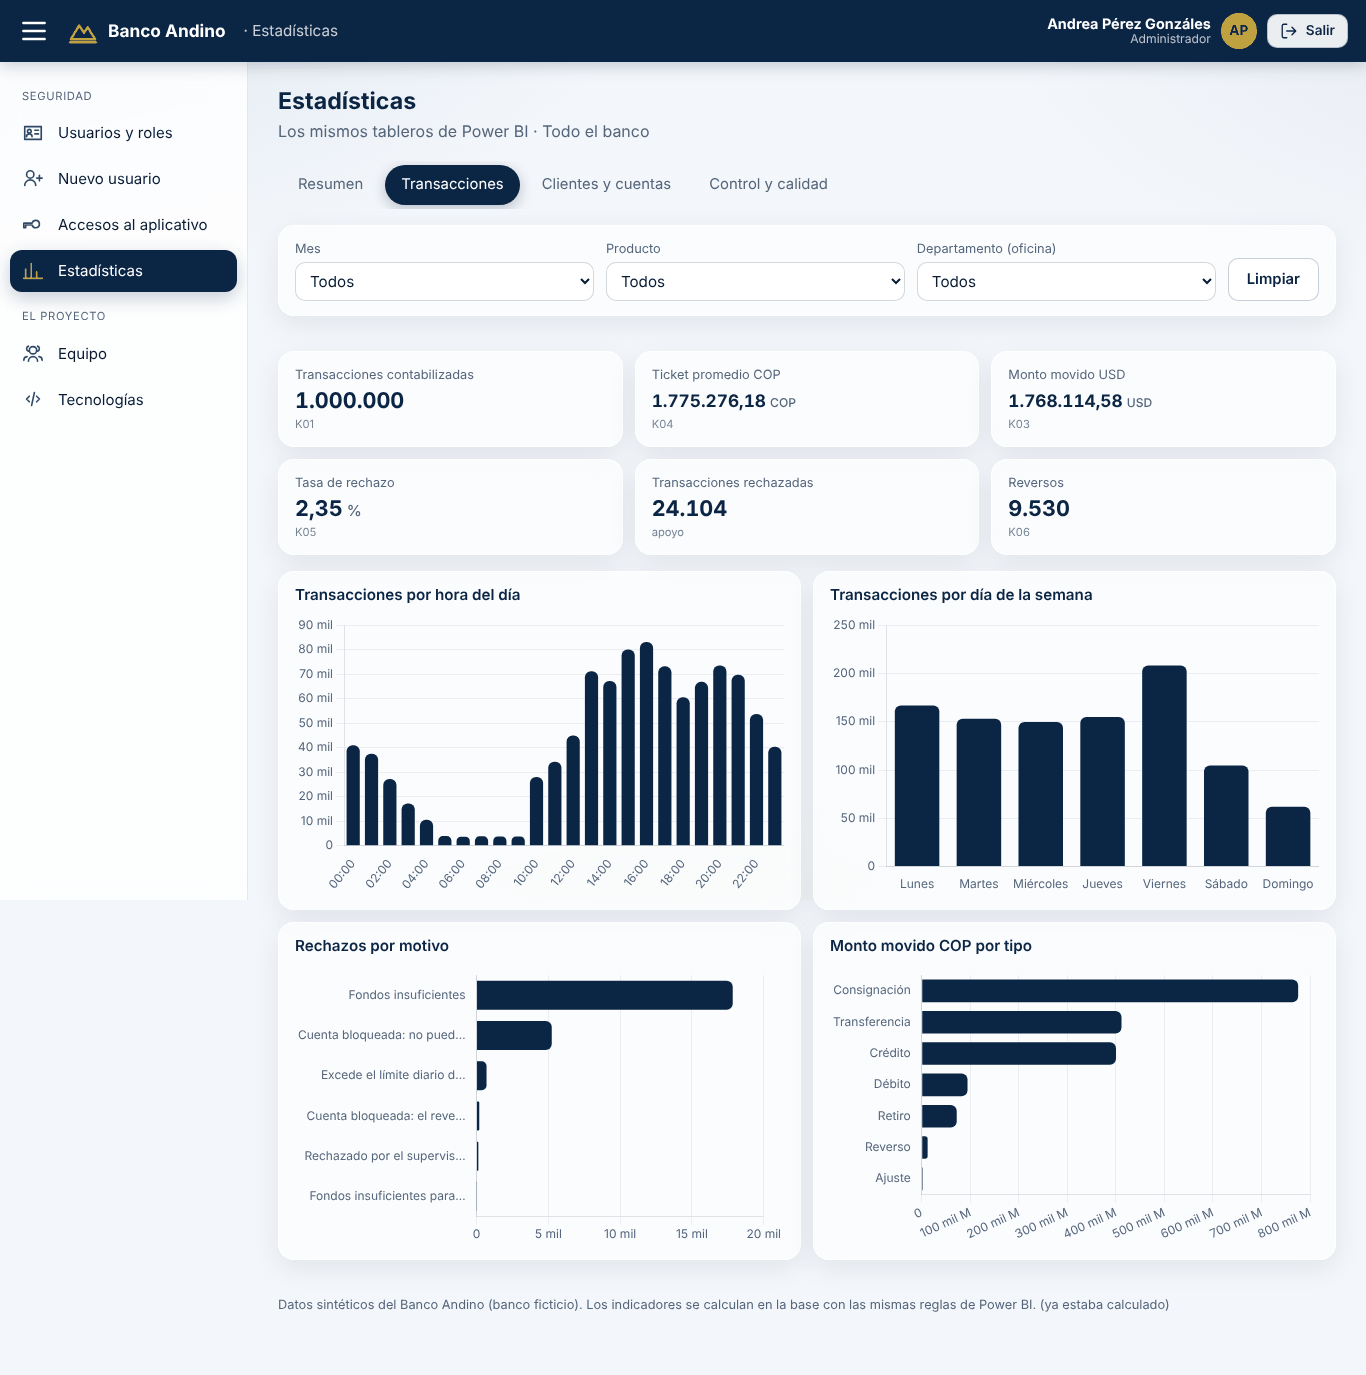

The dashboard page shown, as its layout file describes it:
{"tool":"powerbi","page":{"name":"Transacciones","canvas":[1280,720],"ordinal":1},"visuals":[{"type":"textbox","box":[24,12,520,48],"z":0},{"type":"slicer","title":"Mes","fields":{"Values":["bi dim_fecha.anio_mes"]},"box":[600,10,210,58],"z":1000},{"type":"slicer","title":"Producto","fields":{"Values":["bi dim_producto.producto"]},"box":[825,10,210,58],"z":2000},{"type":"slicer","title":"Departamento (oficina)","fields":{"Values":["bi dim_oficina.departamento"]},"box":[1050,10,210,58],"z":3000},{"type":"card","fields":{"Values":["bi fact_transaccion.K01 Transacciones contabilizadas"]},"box":[24,84,195.3,96],"z":10000},{"type":"card","fields":{"Values":["bi fact_transaccion.K04 Ticket promedio COP"]},"box":[231.3,84,195.3,96],"z":11000},{"type":"card","fields":{"Values":["bi fact_transaccion.K03 Monto movido USD"]},"box":[438.7,84,195.3,96],"z":12000},{"type":"card","fields":{"Values":["bi fact_transaccion.K05 Tasa de rechazo %"]},"box":[646,84,195.3,96],"z":13000},{"type":"card","fields":{"Values":["bi fact_transaccion.Transacciones rechazadas"]},"box":[853.3,84,195.3,96],"z":14000},{"type":"card","fields":{"Values":["bi fact_transaccion.K06 Reversos"]},"box":[1060.7,84,195.3,96],"z":15000},{"type":"clusteredColumnChart","title":"Transacciones por hora del día","fields":{"Category":["bi fact_transaccion.hora"],"Y":["bi fact_transaccion.K01 Transacciones contabilizadas"]},"box":[24,196,610,250],"z":20000},{"type":"clusteredColumnChart","title":"Transacciones por día de la semana","fields":{"Category":["bi dim_fecha.nombre_dia"],"Y":["bi fact_transaccion.K01 Transacciones contabilizadas"]},"box":[646,196,610,250],"z":21000},{"type":"barChart","title":"Rechazos por motivo","fields":{"Category":["bi fact_transaccion.motivo_rechazo"],"Y":["bi fact_transaccion.Transacciones rechazadas"]},"box":[24,458,610,240],"z":22000},{"type":"barChart","title":"Monto movido COP por tipo","fields":{"Category":["bi dim_tipo_transaccion.tipo"],"Y":["bi fact_transaccion.K02 Monto movido COP"]},"box":[646,458,610,240],"z":23000}]}

Visuals, with their boxes on the page's 1280x720 design canvas (x1, y1, x2, y2). These are canvas units, not pixel positions in the 1366x1375 screenshot, which may show the page scaled, cropped or inside an application window:
textbox: {"left": 24, "top": 12, "right": 544, "bottom": 60}
"Mes" slicer: {"left": 600, "top": 10, "right": 810, "bottom": 68}
"Producto" slicer: {"left": 825, "top": 10, "right": 1035, "bottom": 68}
"Departamento (oficina)" slicer: {"left": 1050, "top": 10, "right": 1260, "bottom": 68}
card - bi fact_transaccion.K01 Transacciones contabilizadas: {"left": 24, "top": 84, "right": 219, "bottom": 180}
card - bi fact_transaccion.K04 Ticket promedio COP: {"left": 231, "top": 84, "right": 427, "bottom": 180}
card - bi fact_transaccion.K03 Monto movido USD: {"left": 439, "top": 84, "right": 634, "bottom": 180}
card - bi fact_transaccion.K05 Tasa de rechazo %: {"left": 646, "top": 84, "right": 841, "bottom": 180}
card - bi fact_transaccion.Transacciones rechazadas: {"left": 853, "top": 84, "right": 1049, "bottom": 180}
card - bi fact_transaccion.K06 Reversos: {"left": 1061, "top": 84, "right": 1256, "bottom": 180}
"Transacciones por hora del día" clusteredColumnChart: {"left": 24, "top": 196, "right": 634, "bottom": 446}
"Transacciones por día de la semana" clusteredColumnChart: {"left": 646, "top": 196, "right": 1256, "bottom": 446}
"Rechazos por motivo" barChart: {"left": 24, "top": 458, "right": 634, "bottom": 698}
"Monto movido COP por tipo" barChart: {"left": 646, "top": 458, "right": 1256, "bottom": 698}
